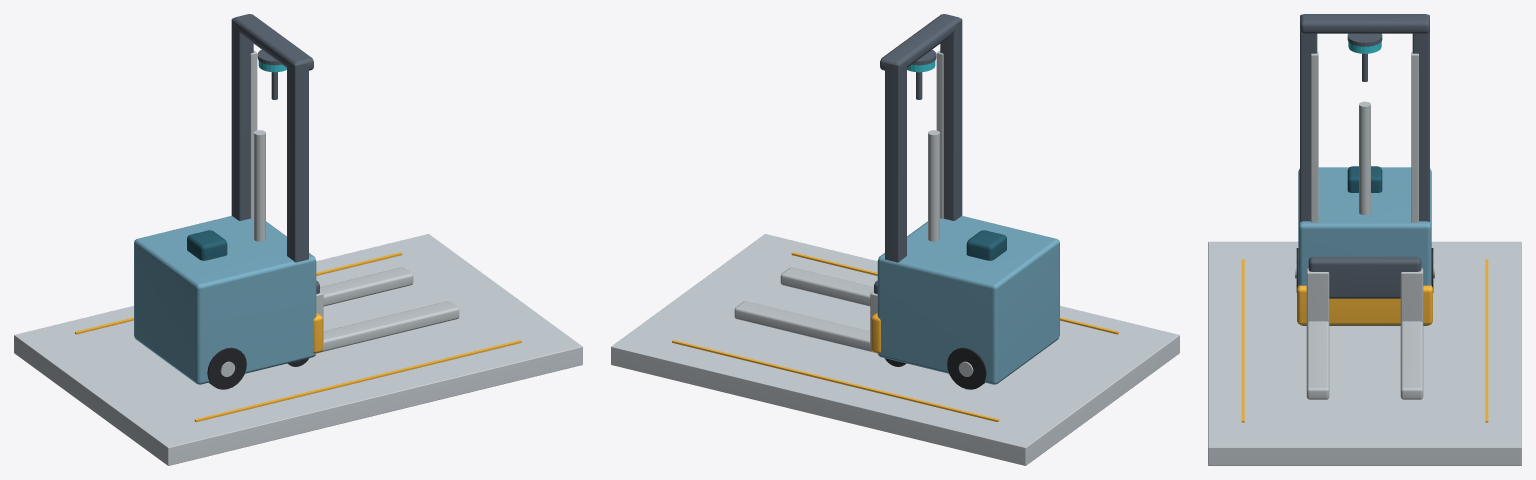
3 views of the same model, side by side, from view 1: azimuth 30°, elevation 25°; view 2: azimuth 150°, elevation 25°; view 3: azimuth 270°, elevation 25° (orthographic).
Visible parts, largest first — view 1: Ground plane, Power unit, Lift mast outer rail, Lift mast outer rail.001, Fork tine / pallet handling, Fork tine / pallet handling.001, Mast crosshead, Hydraulic lift cylinder, Concept clearance guide, Driven wheel / tyre, Operator display, Lift mast inner rail.001; view 2: Ground plane, Power unit, Lift mast outer rail.001, Lift mast outer rail, Fork tine / pallet handling.001, Fork tine / pallet handling, Mast crosshead, Hydraulic lift cylinder, Concept clearance guide.001, Driven wheel / tyre.001, Operator display, Lift mast inner rail; view 3: Ground plane, Power unit, Fork carriage, Front safety bumper, Mast crosshead, Lift mast outer rail, Lift mast outer rail.001, Fork tine / pallet handling, Fork tine / pallet handling.001, Lift mast inner rail, Lift mast inner rail.001, Hydraulic lift cylinder (+6 smaller).
Boxes of the visible parts, x1,y1,x2,y2 form: Ground plane: (14, 234, 582, 465); Power unit: (134, 216, 316, 384); Lift mast outer rail: (287, 59, 308, 262); Lift mast outer rail.001: (231, 18, 253, 220); Fork tine / pallet handling: (320, 301, 459, 352); Fork tine / pallet handling.001: (320, 267, 413, 306); Mast crosshead: (233, 14, 313, 70); Hydraulic lift cylinder: (254, 130, 265, 241); Concept clearance guide: (194, 340, 521, 422); Driven wheel / tyre: (207, 347, 246, 389); Operator display: (187, 230, 227, 260); Lift mast inner rail.001: (250, 50, 257, 218); Ground plane: (611, 234, 1179, 465); Power unit: (877, 216, 1059, 384); Lift mast outer rail.001: (885, 59, 906, 262); Lift mast outer rail: (940, 18, 962, 220); Fork tine / pallet handling.001: (734, 301, 873, 352); Fork tine / pallet handling: (780, 267, 873, 306); Mast crosshead: (880, 14, 960, 70); Hydraulic lift cylinder: (928, 130, 939, 241); Concept clearance guide.001: (672, 340, 999, 422); Driven wheel / tyre.001: (947, 347, 986, 389); Operator display: (966, 230, 1006, 260); Lift mast inner rail: (936, 50, 943, 218); Ground plane: (1208, 241, 1521, 465); Power unit: (1298, 167, 1431, 325); Fork carriage: (1308, 256, 1421, 298); Front safety bumper: (1297, 285, 1432, 324); Mast crosshead: (1300, 14, 1429, 33); Lift mast outer rail: (1300, 14, 1317, 221); Lift mast outer rail.001: (1412, 14, 1429, 221); Fork tine / pallet handling: (1306, 321, 1329, 399); Fork tine / pallet handling.001: (1400, 321, 1423, 399); Lift mast inner rail: (1311, 52, 1318, 222); Lift mast inner rail.001: (1411, 52, 1418, 222); Hydraulic lift cylinder: (1359, 101, 1370, 214).
Bounding box in the file's own units: 2.8 × 2.11 × 1.8.
